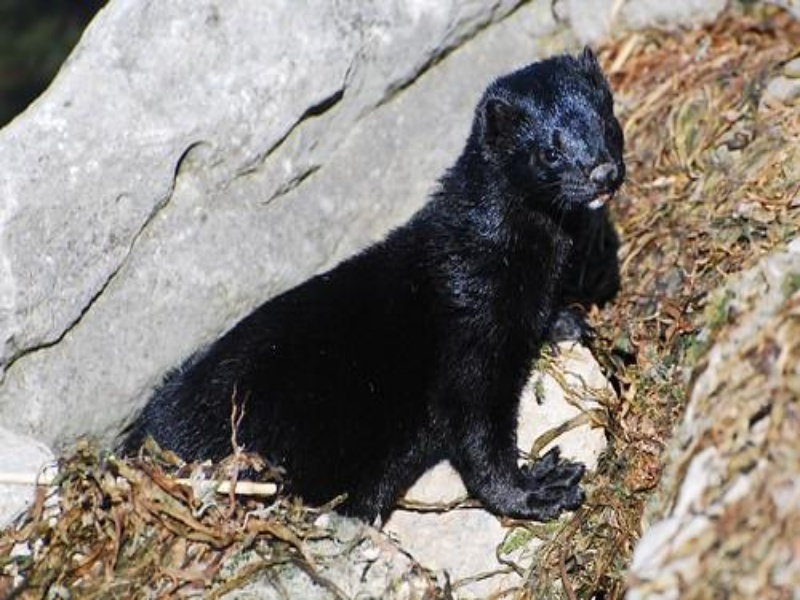minkish: (116, 42, 626, 523)
